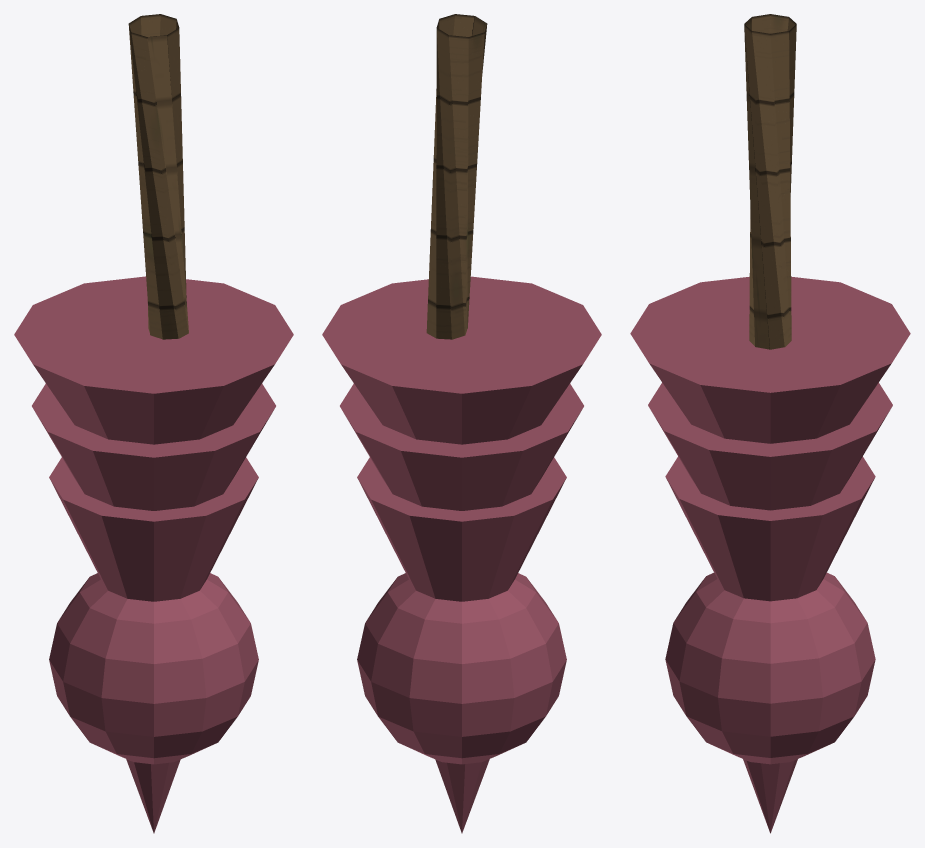
Rendered from bui-chuoi-bap-chuoi-treo.glb.
3 views of the same model, side by side, from view 1: azimuth 30°, elevation 25°; view 2: azimuth 150°, elevation 25°; view 3: azimuth 270°, elevation 25° (orthographic).
Parts seen in each view (by area): view 1: bui-chuoi-bap-chuoi-treo; view 2: bui-chuoi-bap-chuoi-treo; view 3: bui-chuoi-bap-chuoi-treo.
Boxes of the visible parts, <box> form: bui-chuoi-bap-chuoi-treo: <box>14,14,293,833</box>; bui-chuoi-bap-chuoi-treo: <box>322,14,601,833</box>; bui-chuoi-bap-chuoi-treo: <box>630,14,910,833</box>.
Bounding box in the file's own units: 0.32 × 1.02 × 0.32.
Materials: 2 (1 with a texture image).
